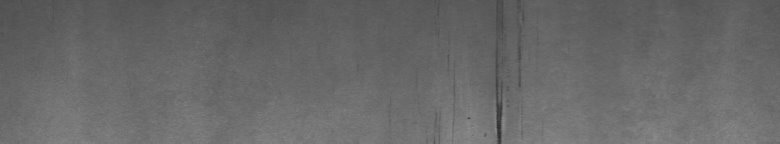hd: (467, 6, 524, 136)
